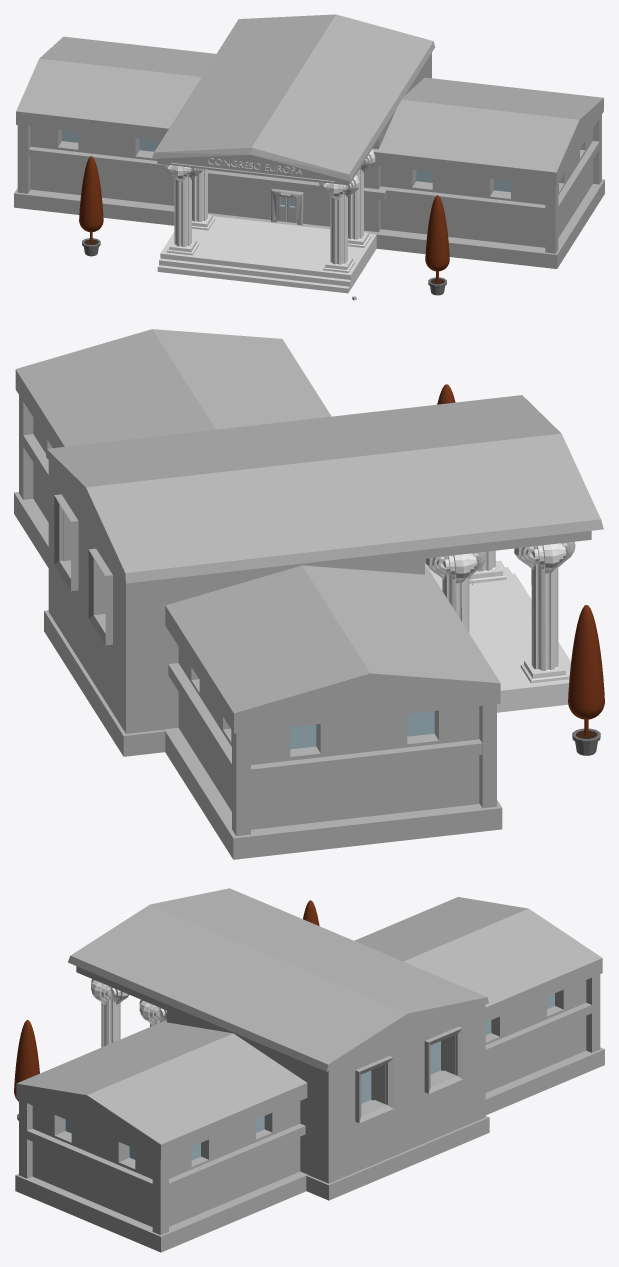
The model's file is congreso.dae.
The picture shows the model from 3 angles, top to bottom: view 1: azimuth 30°, elevation 25°; view 2: azimuth 150°, elevation 25°; view 3: azimuth 270°, elevation 25°; orthographic projection. The views are drawn at different scales.
Visible parts, largest first — view 1: casa1, tejado2, tejado1, escala, columna1, arbol2, arbol1, columna, casa1_001; view 2: tejado1, tejado2, casa1, escala, columna1, arbol1, casa1_001; view 3: casa1, tejado1, tejado2, casa1_001, arbol2, columna.
Boxes of the visible parts, left/top/right/bottom form: casa1: left=14, top=55, right=604, bottom=268; tejado2: left=16, top=36, right=603, bottom=185; tejado1: left=152, top=14, right=435, bottom=185; escala: left=157, top=216, right=376, bottom=293; columna1: left=163, top=150, right=375, bottom=255; arbol2: left=425, top=195, right=449, bottom=295; arbol1: left=79, top=156, right=103, bottom=256; columna: left=330, top=185, right=348, bottom=265; casa1_001: left=62, top=130, right=510, bottom=206; tejado1: left=46, top=395, right=603, bottom=592; tejado2: left=15, top=329, right=500, bottom=733; casa1: left=14, top=395, right=502, bottom=859; escala: left=428, top=560, right=570, bottom=712; columna1: left=425, top=541, right=575, bottom=683; arbol1: left=568, top=605, right=604, bottom=755; casa1_001: left=290, top=711, right=434, bottom=749; casa1: left=15, top=974, right=604, bottom=1252; tejado1: left=68, top=888, right=488, bottom=1078; tejado2: left=16, top=897, right=602, bottom=1159; casa1_001: left=65, top=993, right=554, bottom=1160; arbol2: left=14, top=1020, right=39, bottom=1120; columna: left=101, top=991, right=120, bottom=1047.
Size of the model in its own units: 443 by 443 by 155.
